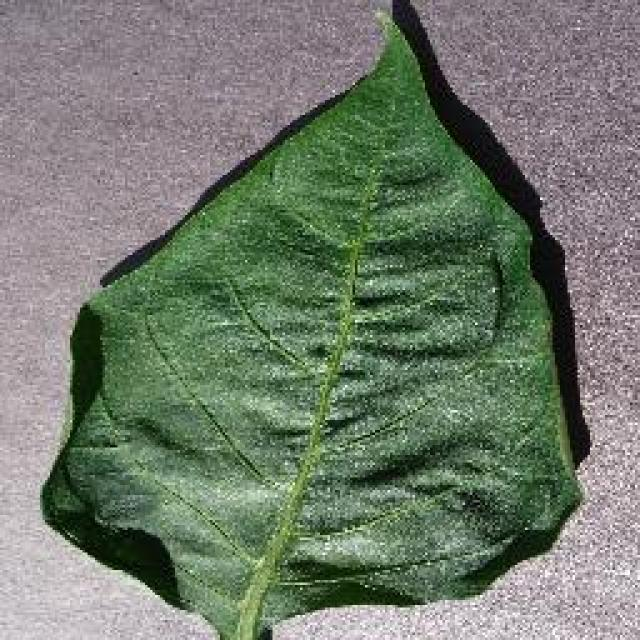Chilli_Healthy: (37, 5, 585, 637)
